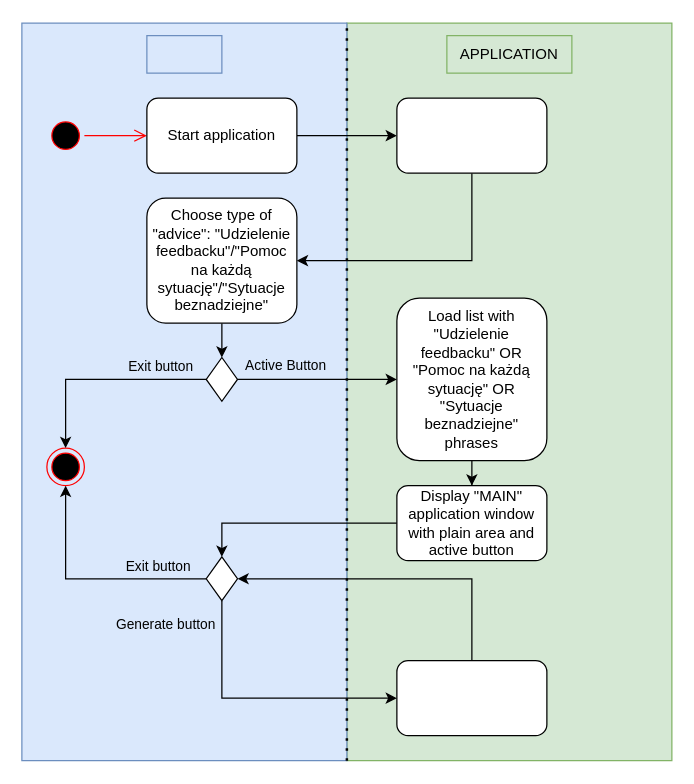
The diagram is 694 pixels wide and 784 high, and some of its shapes have lost their labels. Each missing label, with the centre of its shape:
Display "PRESELECT" application window with 3 active buttons: point 471,135
Display one random phrase from phrases list in plain area: point 471,697
USER: point 184,53
